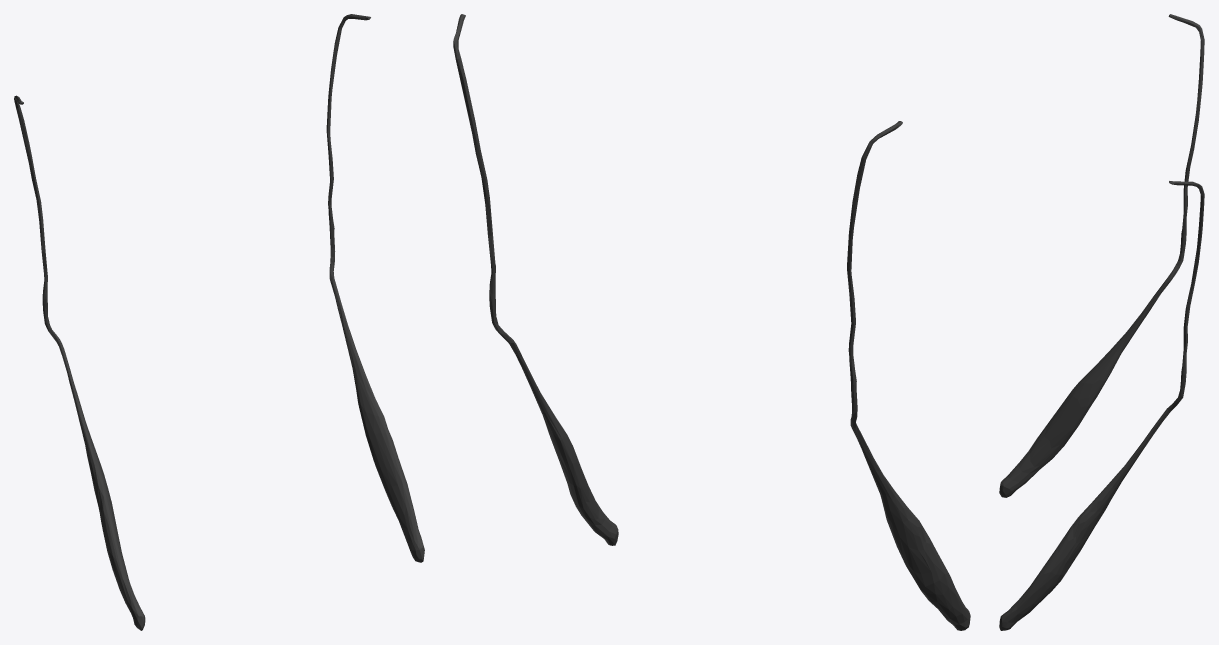
Rendered from m_extensor_digitorum_lateralis_HL.glb.
The picture shows the model from 3 angles, left to right: view 1: azimuth 30°, elevation 25°; view 2: azimuth 150°, elevation 25°; view 3: azimuth 270°, elevation 25°; orthographic projection. The views are drawn at different scales.
Parts seen in each view (by area): view 1: m_extensor_digitorum_lateralis_HL; view 2: m_extensor_digitorum_lateralis_HL; view 3: m_extensor_digitorum_lateralis_HL.
Boxes of the visible parts, x1,y1,x2,y2 form: m_extensor_digitorum_lateralis_HL: (14, 14, 424, 630); m_extensor_digitorum_lateralis_HL: (453, 14, 970, 630); m_extensor_digitorum_lateralis_HL: (999, 14, 1204, 630).
Size of the model in its own units: 0.0667 by 0.0861 by 0.0344.
1 material, 1 textured.
